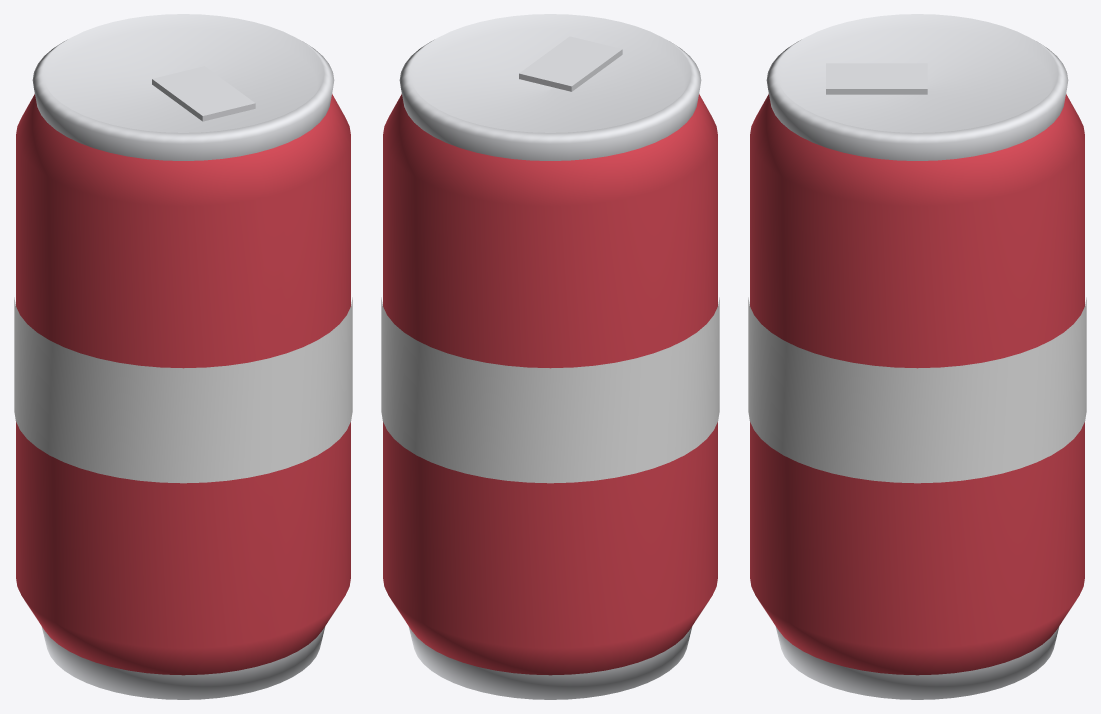
The model's file is can.glb.
3 views of the same model, side by side, from view 1: azimuth 30°, elevation 25°; view 2: azimuth 150°, elevation 25°; view 3: azimuth 270°, elevation 25° (orthographic).
Parts seen in each view (by area): view 1: can; view 2: can; view 3: can.
Part boxes in pixels (x1,y1,x2,y2): can: (14, 14, 352, 699); can: (381, 14, 719, 699); can: (748, 14, 1086, 699).
Bounding box in the file's own units: 0.0666 × 0.1235 × 0.0666.
